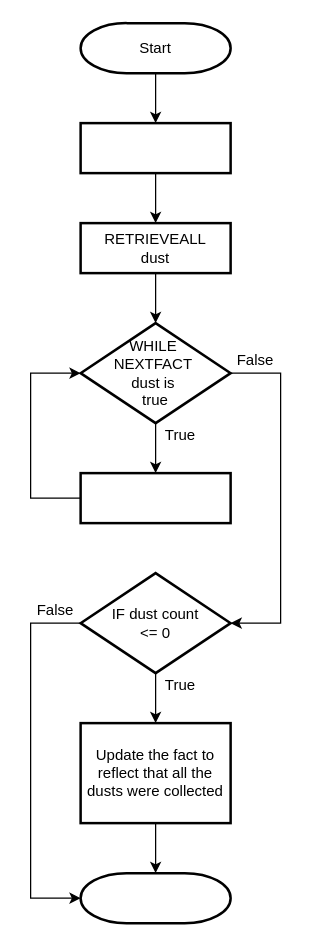
Some shapes in this 313 by 945 pixel diagram are drawn without their labels. Each missing label, with the centre of its shape:
"End" belongs at (155,897).
"Increment dust count" belongs at (155,497).
"Initialize dust count to 0" belongs at (155,147).
